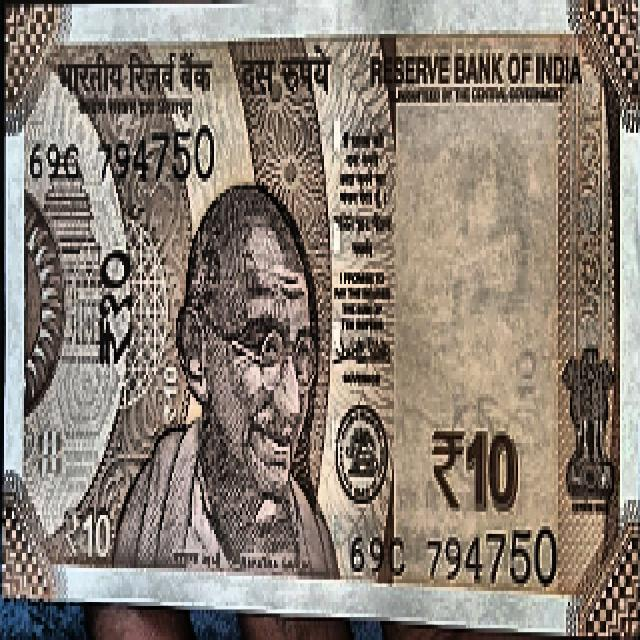-10-: (5, 13, 640, 616)
